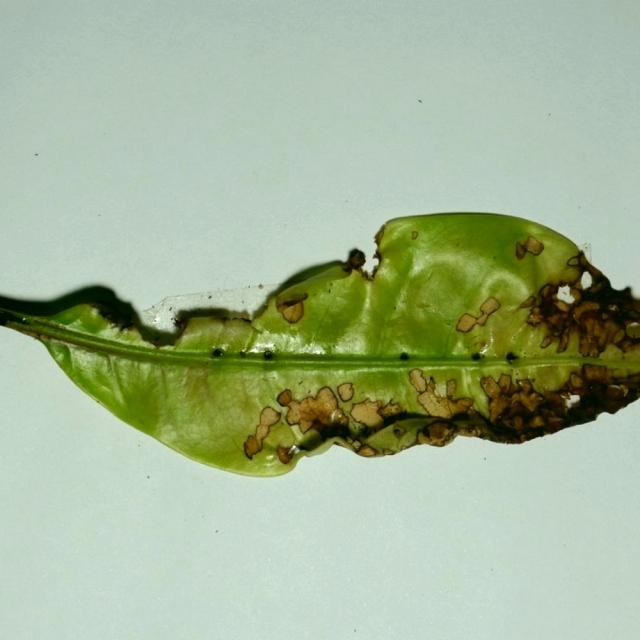Anthracnose: (412, 374, 473, 420), (331, 385, 385, 428), (578, 309, 627, 353), (480, 373, 523, 422), (244, 408, 282, 459), (275, 293, 308, 325), (544, 390, 576, 415), (573, 301, 601, 325), (284, 399, 304, 426), (478, 296, 500, 320), (546, 311, 568, 334), (408, 368, 428, 393), (455, 313, 479, 333), (582, 364, 606, 381), (347, 249, 366, 270), (579, 333, 595, 357), (524, 236, 544, 255), (336, 383, 354, 402), (606, 384, 626, 401), (526, 308, 545, 325), (276, 389, 293, 407), (329, 409, 347, 426), (569, 374, 585, 392), (539, 284, 556, 300), (518, 295, 537, 309), (580, 270, 593, 290), (554, 300, 571, 313), (515, 242, 527, 260), (357, 446, 376, 457), (566, 254, 582, 267), (374, 228, 385, 245), (476, 338, 489, 352), (540, 335, 552, 349), (383, 448, 395, 456), (410, 231, 418, 240)
Mango: (0, 213, 639, 481)
